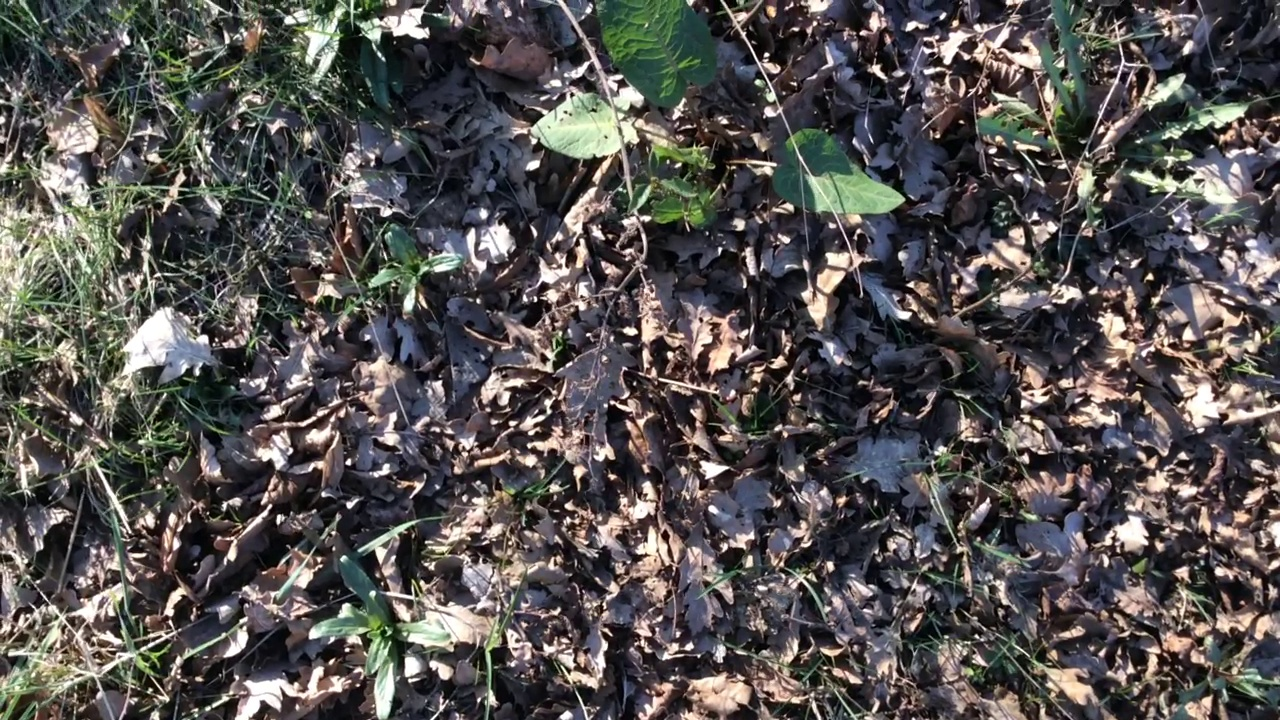rumex: (529, 1, 905, 227)
